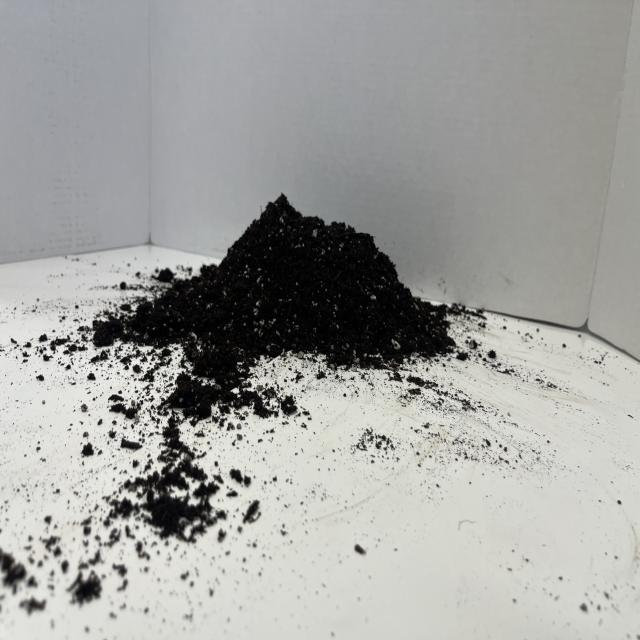soil: (90, 190, 458, 419)
